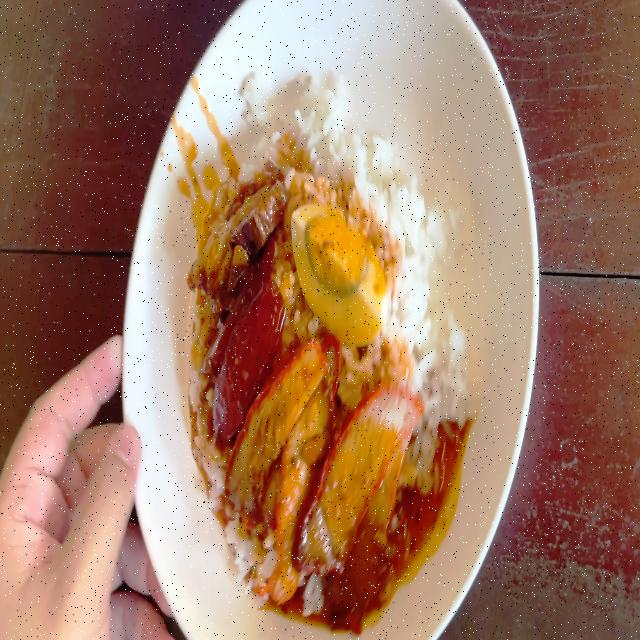boiled_egg: (299, 212, 381, 341)
chainese_sausage: (197, 166, 280, 283)
crispy_pork: (213, 260, 281, 422)
red_pork: (275, 347, 418, 580), (235, 417, 272, 501)
red_pork_and_crispy_pork: (192, 106, 467, 563)
rice: (386, 159, 465, 402), (259, 98, 393, 207)
